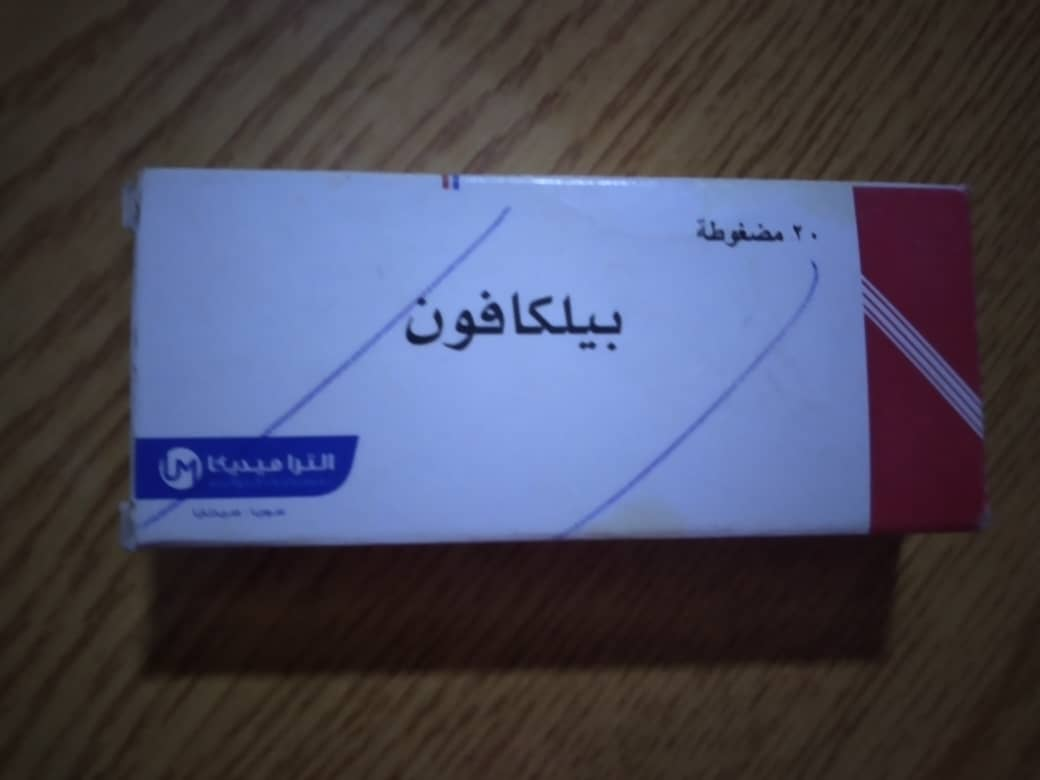Medicine: (114, 154, 1006, 558)
